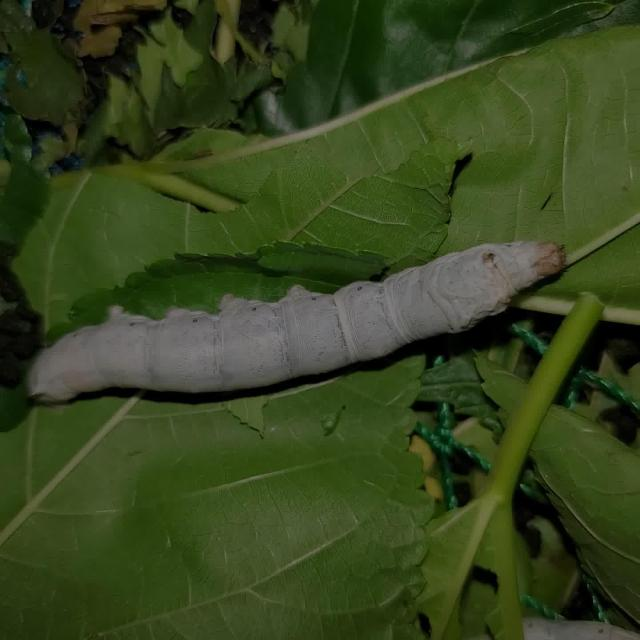Healthy: (19, 226, 571, 407)
